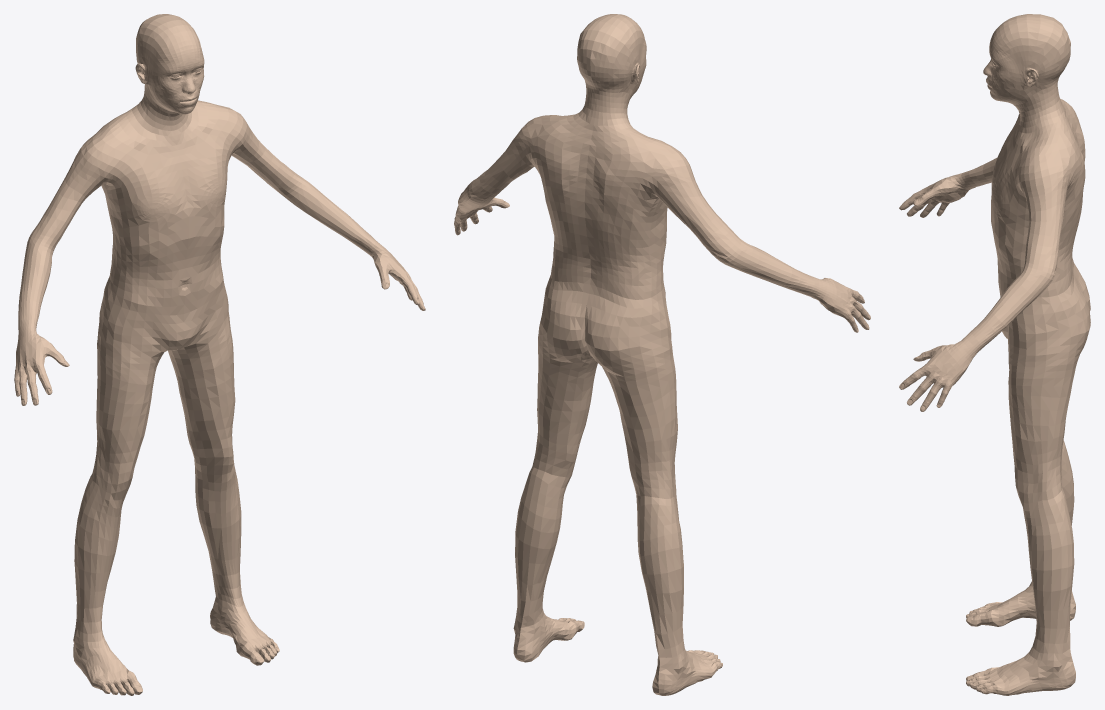
The model's file is male-young-fit-low.glb.
3 renders of one model, left to right at view 1: azimuth 30°, elevation 25°; view 2: azimuth 150°, elevation 25°; view 3: azimuth 270°, elevation 25°, orthographic.
Parts seen in each view (by area): view 1: world; view 2: world; view 3: world.
Boxes of the visible parts, x1=… form: world: x1=14, y1=14, x2=425, y2=695; world: x1=454, y1=14, x2=870, y2=695; world: x1=899, y1=14, x2=1090, y2=695.
Bounding box in the file's own units: 1.24 × 1.89 × 0.5145.
